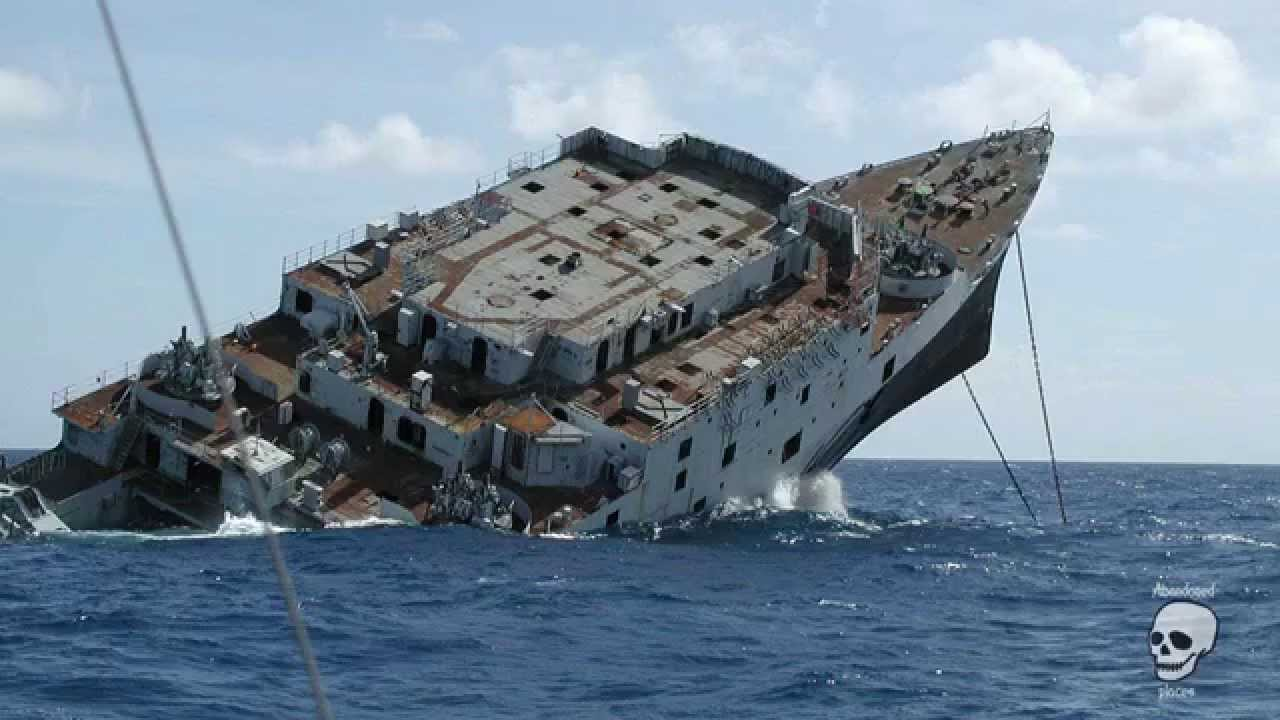rust: (67, 388, 114, 423), (874, 313, 911, 350), (509, 410, 548, 432)
